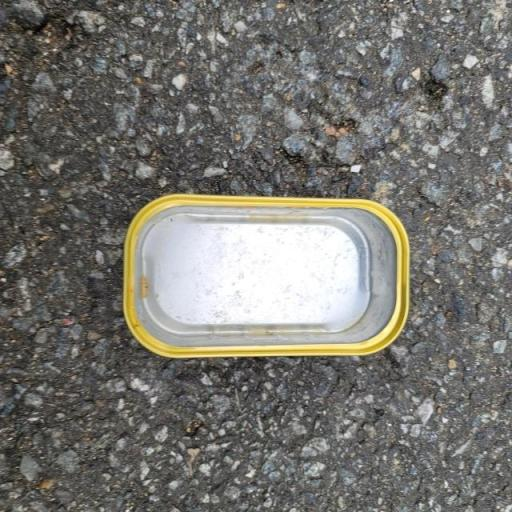metal: (107, 183, 452, 383)
